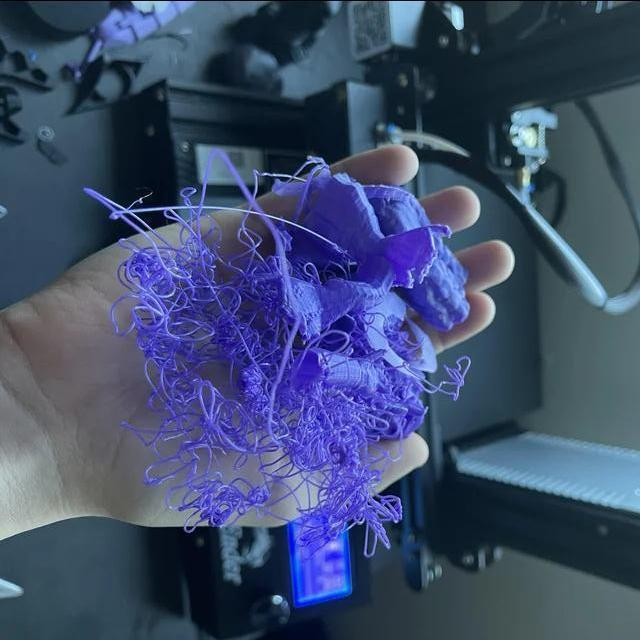spaghetti: (116, 240, 210, 366), (209, 269, 263, 373), (306, 412, 396, 471), (315, 481, 403, 539), (185, 477, 265, 533), (179, 386, 242, 454), (131, 376, 185, 448), (250, 366, 295, 442), (92, 187, 160, 235), (414, 358, 472, 401)
